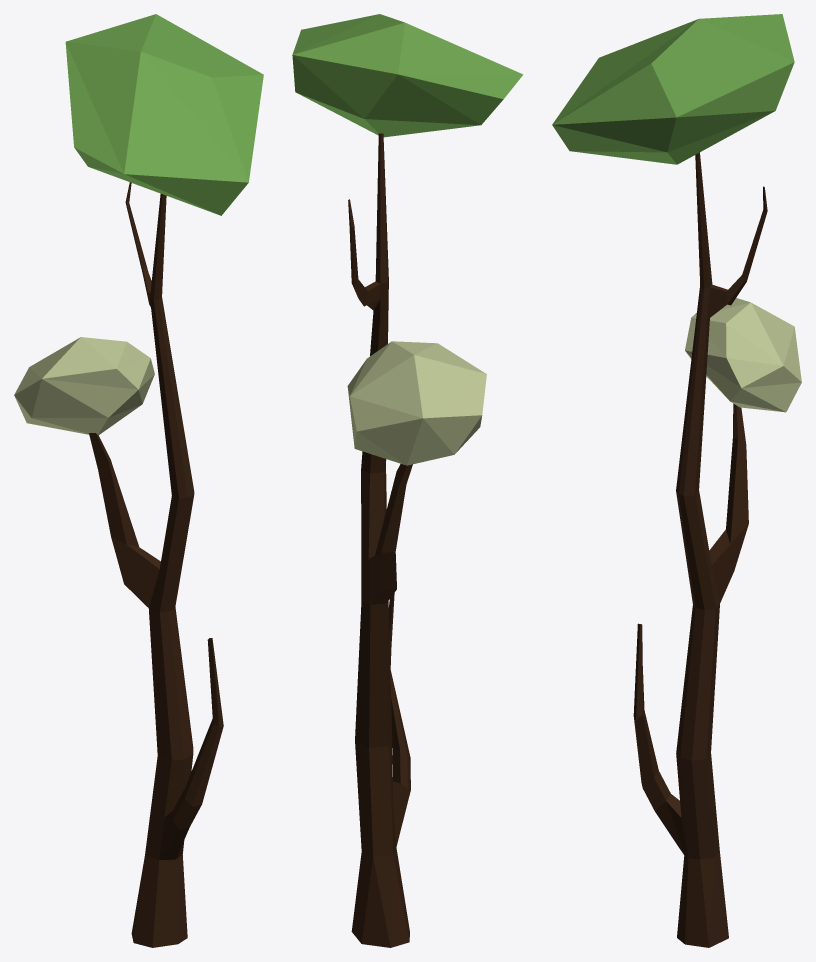
File: TallTreeYUp.fbx
3 renders of one model, left to right at view 1: azimuth 30°, elevation 25°; view 2: azimuth 150°, elevation 25°; view 3: azimuth 270°, elevation 25°, orthographic. The views are drawn at different scales.
Visible parts, largest first — view 1: Icosphere.007; view 2: Icosphere.007; view 3: Icosphere.007.
Part boxes in pixels (bbox=[...]): Icosphere.007: bbox=[14, 14, 263, 947]; Icosphere.007: bbox=[292, 14, 523, 947]; Icosphere.007: bbox=[552, 14, 801, 947].
Size of the model in its own units: 5 by 20 by 5.
